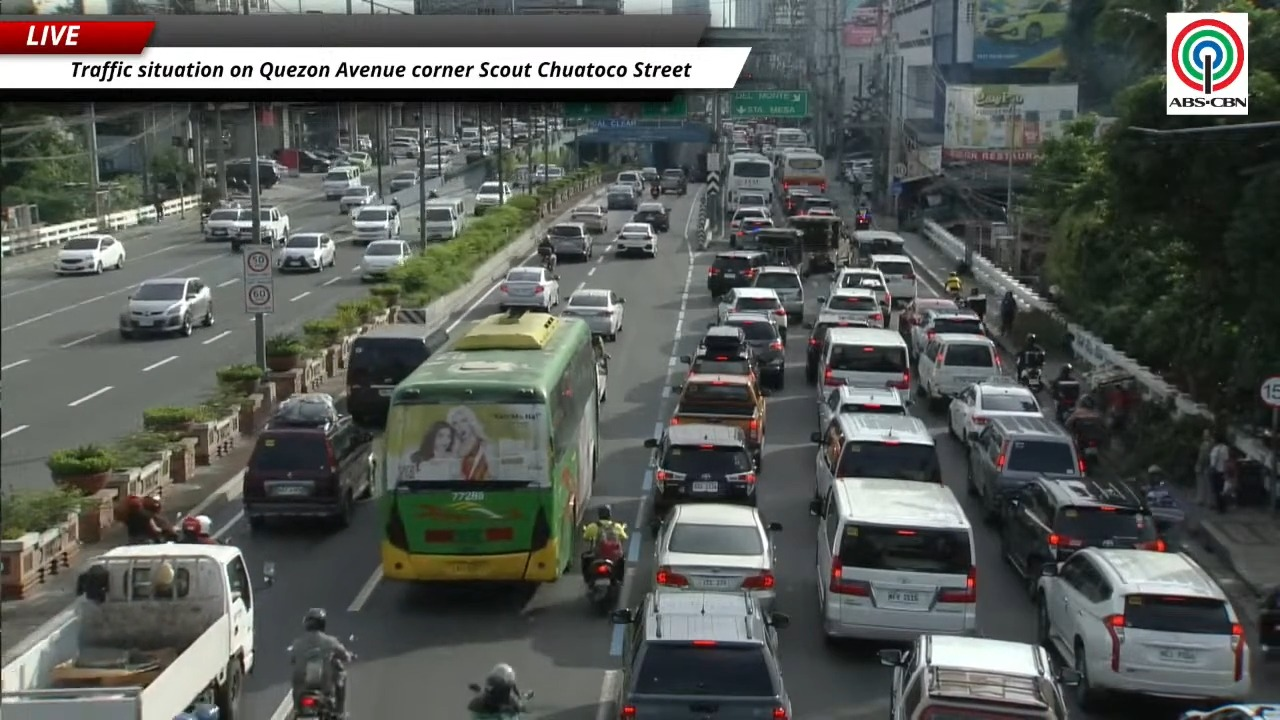bus: (375, 311, 598, 582), (725, 153, 774, 206), (778, 151, 827, 193), (774, 128, 809, 151)
car: (1037, 547, 1250, 711), (809, 475, 977, 641), (611, 588, 791, 719), (999, 476, 1167, 598), (243, 393, 372, 529), (878, 634, 1077, 719), (655, 503, 781, 610), (966, 416, 1084, 521), (346, 322, 448, 429), (644, 423, 757, 519), (811, 415, 941, 498), (917, 333, 1001, 409), (948, 378, 1042, 441), (119, 277, 214, 339), (720, 312, 785, 389), (805, 314, 868, 383), (817, 385, 908, 429), (904, 308, 984, 358), (718, 287, 788, 342), (680, 325, 756, 375), (982, 0, 1067, 44), (898, 297, 958, 358), (562, 288, 624, 341), (752, 266, 804, 323), (826, 267, 891, 312), (706, 250, 768, 297), (498, 266, 559, 312), (54, 235, 125, 274), (818, 287, 887, 326), (870, 254, 917, 303), (276, 233, 335, 271), (359, 240, 411, 281), (351, 205, 401, 244), (545, 222, 593, 261), (852, 229, 904, 264), (1178, 703, 1279, 719), (614, 222, 657, 257), (729, 217, 774, 248), (473, 181, 512, 215), (338, 186, 379, 214), (631, 202, 669, 232), (729, 206, 770, 233), (570, 205, 607, 233), (605, 183, 638, 210), (782, 187, 812, 215), (660, 168, 687, 195), (615, 170, 644, 195), (798, 195, 836, 214), (389, 170, 419, 193), (732, 191, 769, 209), (423, 141, 458, 160), (389, 140, 418, 158), (345, 151, 372, 170), (423, 161, 447, 179), (796, 207, 835, 217), (641, 167, 660, 184)
motorcycle: (293, 658, 344, 719), (584, 538, 623, 611), (1073, 418, 1105, 472), (1257, 588, 1279, 660), (1054, 380, 1080, 422), (1018, 365, 1043, 393), (470, 710, 522, 719), (539, 248, 557, 274), (650, 184, 660, 199)
truck: (0, 545, 254, 719), (204, 206, 250, 241), (258, 205, 289, 247), (259, 207, 289, 245)
